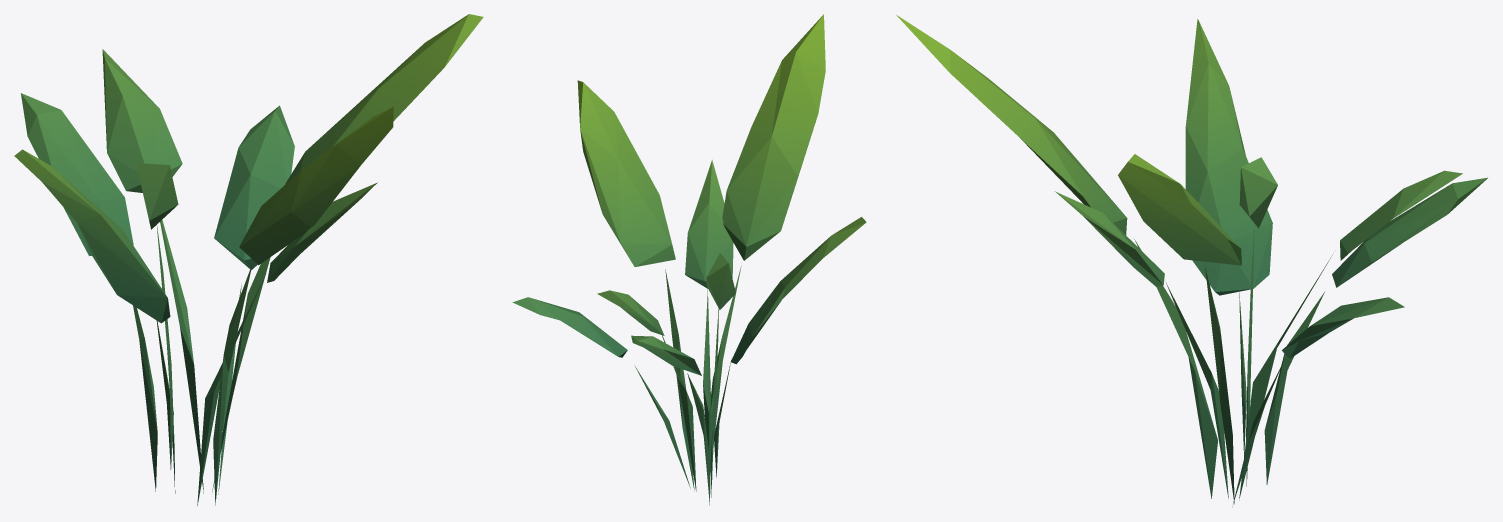
File: ZLP_Grass_C_6.FBX
The picture shows the model from 3 angles, left to right: view 1: azimuth 30°, elevation 25°; view 2: azimuth 150°, elevation 25°; view 3: azimuth 270°, elevation 25°; orthographic projection. The views are drawn at different scales.
Parts seen in each view (by area): view 1: ZLP_Grass_C_6; view 2: ZLP_Grass_C_6; view 3: ZLP_Grass_C_6.
Part boxes in pixels (x1=…): ZLP_Grass_C_6: x1=14, y1=14, x2=483, y2=505; ZLP_Grass_C_6: x1=512, y1=14, x2=866, y2=505; ZLP_Grass_C_6: x1=896, y1=15, x2=1487, y2=506.
Bounding box in the file's own units: 132 × 153 × 166.
